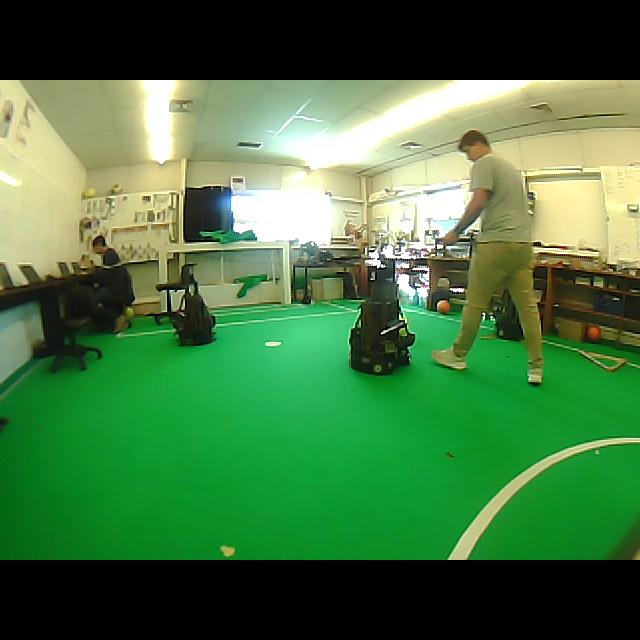ball: (586, 325, 601, 342), (436, 300, 450, 313), (124, 306, 135, 319), (82, 189, 96, 198), (110, 184, 122, 194)
goal: (283, 242, 291, 303)
robot: (350, 260, 414, 374), (172, 264, 215, 345)
